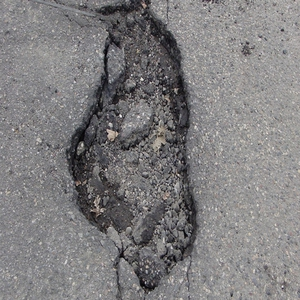pothole: (67, 5, 209, 289)
